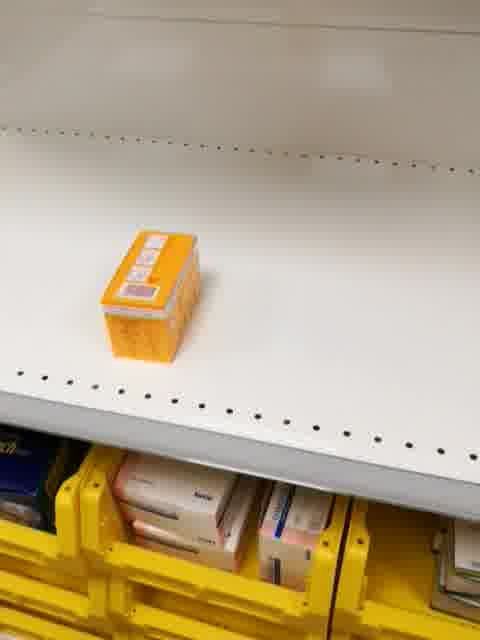jasminetea: (99, 228, 204, 364)
